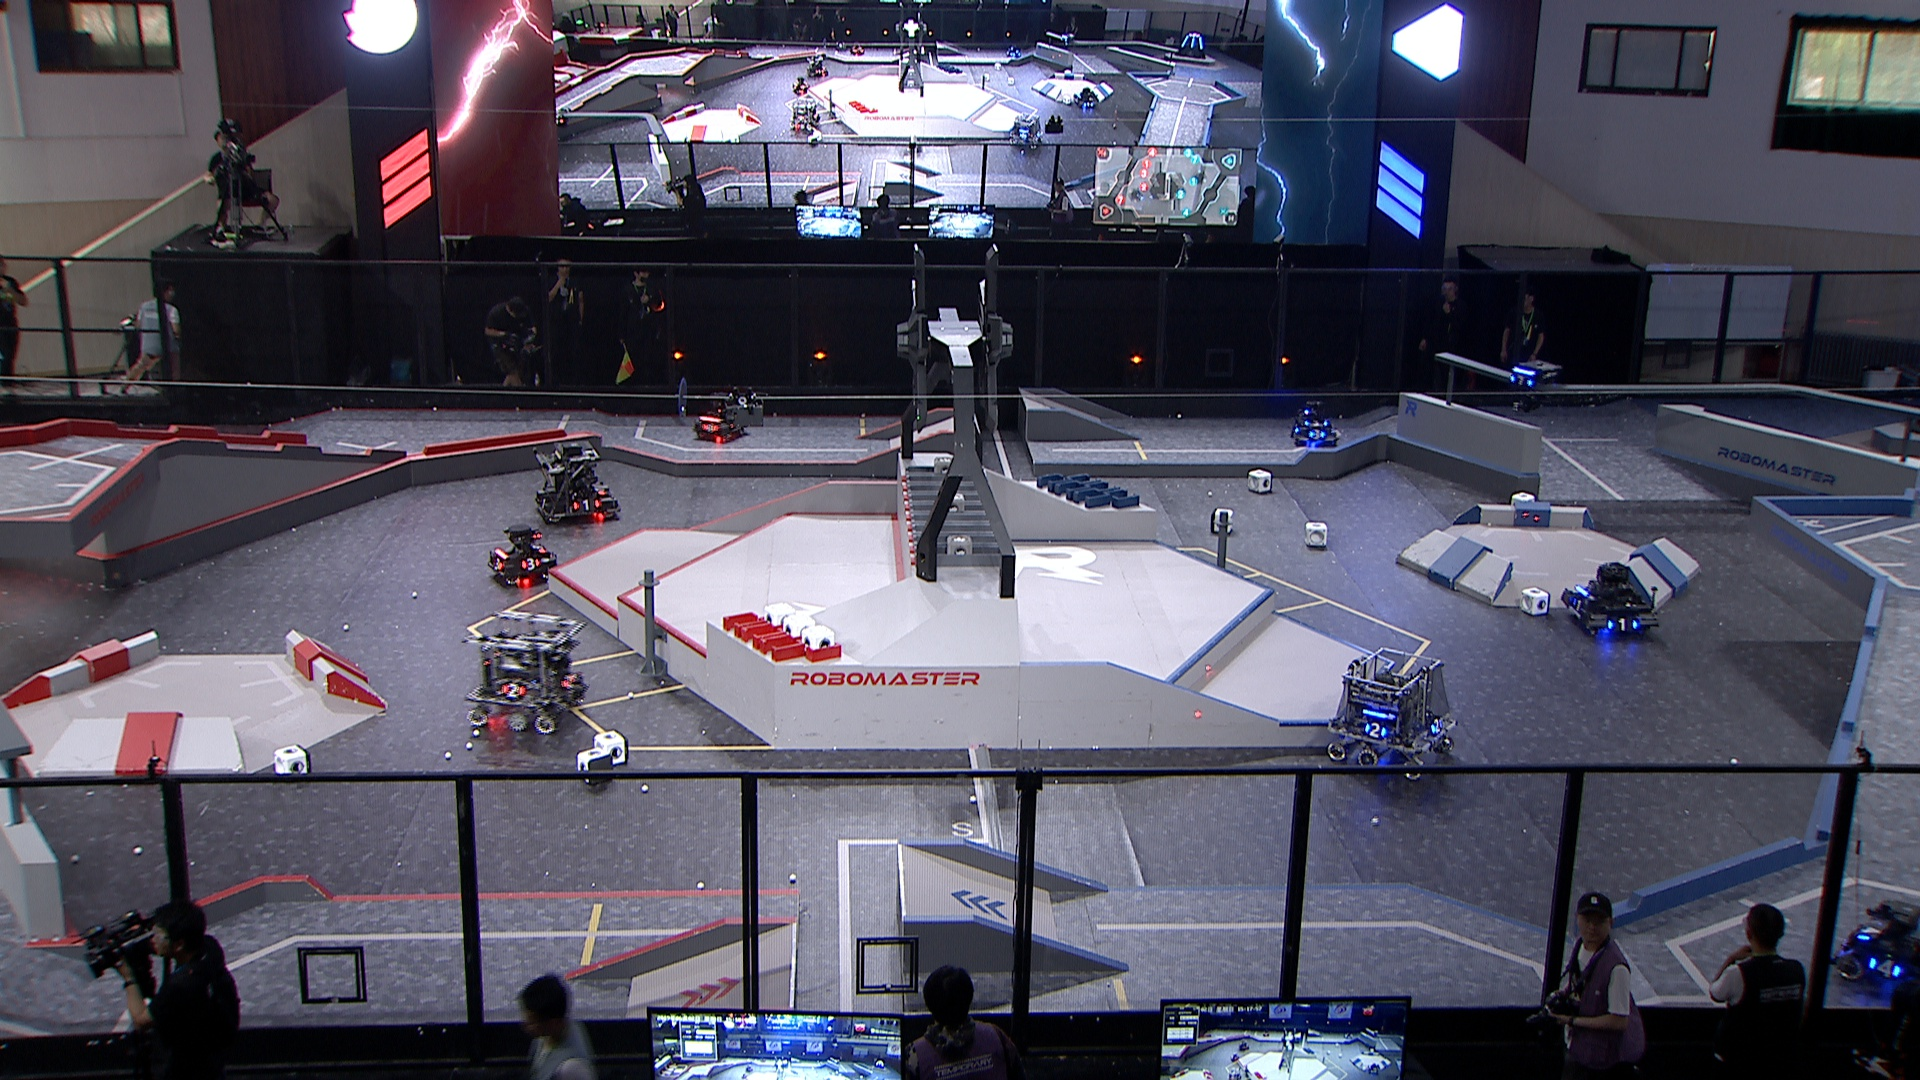armor: (1866, 959, 1902, 981), (1607, 615, 1640, 636), (568, 495, 603, 514), (498, 680, 527, 700), (1858, 920, 1884, 942), (1365, 721, 1387, 740), (1509, 373, 1536, 386), (518, 556, 541, 572), (558, 673, 580, 688), (1305, 427, 1327, 442), (699, 419, 721, 433), (535, 495, 551, 513), (1428, 717, 1444, 736), (1571, 597, 1586, 615), (1302, 419, 1329, 427), (491, 556, 504, 571), (529, 543, 549, 553)
car: (1328, 646, 1462, 783), (462, 608, 589, 735), (527, 438, 621, 527), (1832, 898, 1920, 992), (1563, 559, 1660, 640), (485, 522, 560, 588), (1288, 398, 1342, 447), (694, 398, 746, 440)
ignore: (1006, 112, 1048, 150), (789, 98, 823, 135), (1174, 33, 1209, 61), (806, 51, 832, 78), (1076, 87, 1102, 113)
watcher: (1505, 357, 1560, 417)
